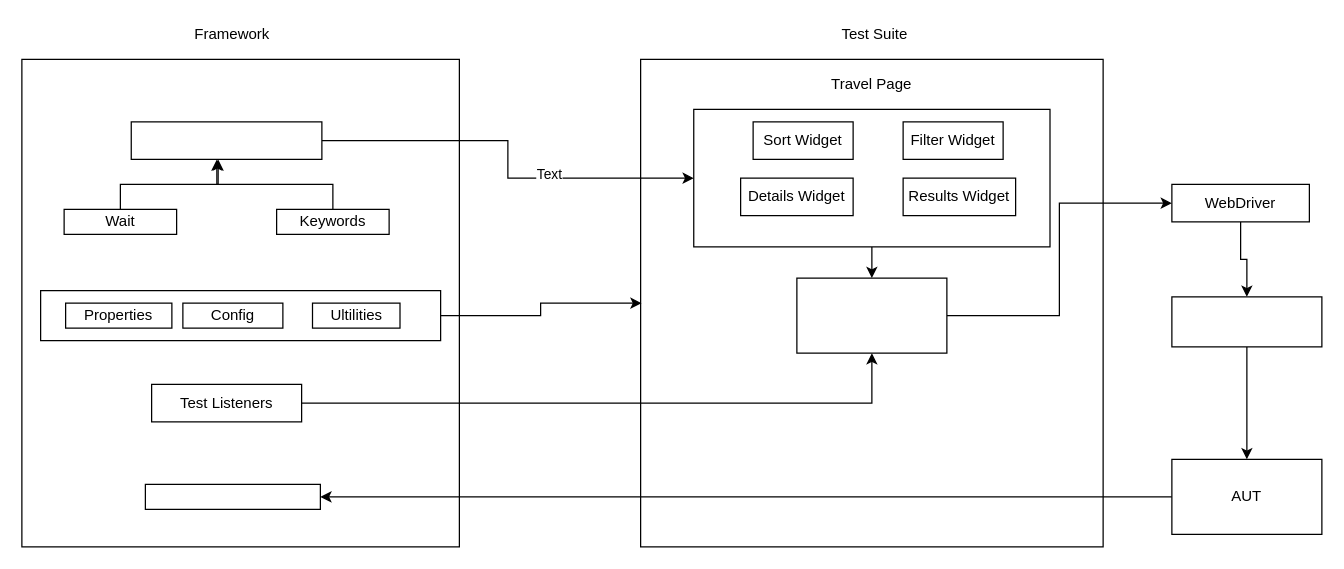
Some shapes in this 1344 by 569 pixel diagram are drawn without their labels. Each missing label, with the centre of its shape:
Browsers: (x=1246, y=321)
Element: (x=226, y=140)
Report: (x=232, y=496)
Test Scripts: (x=871, y=315)
